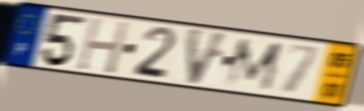2: (133, 25, 179, 82)
5: (38, 11, 91, 68)
7: (280, 42, 320, 96)
H: (74, 15, 131, 76)
M: (223, 38, 284, 93)
V: (185, 26, 232, 88)
